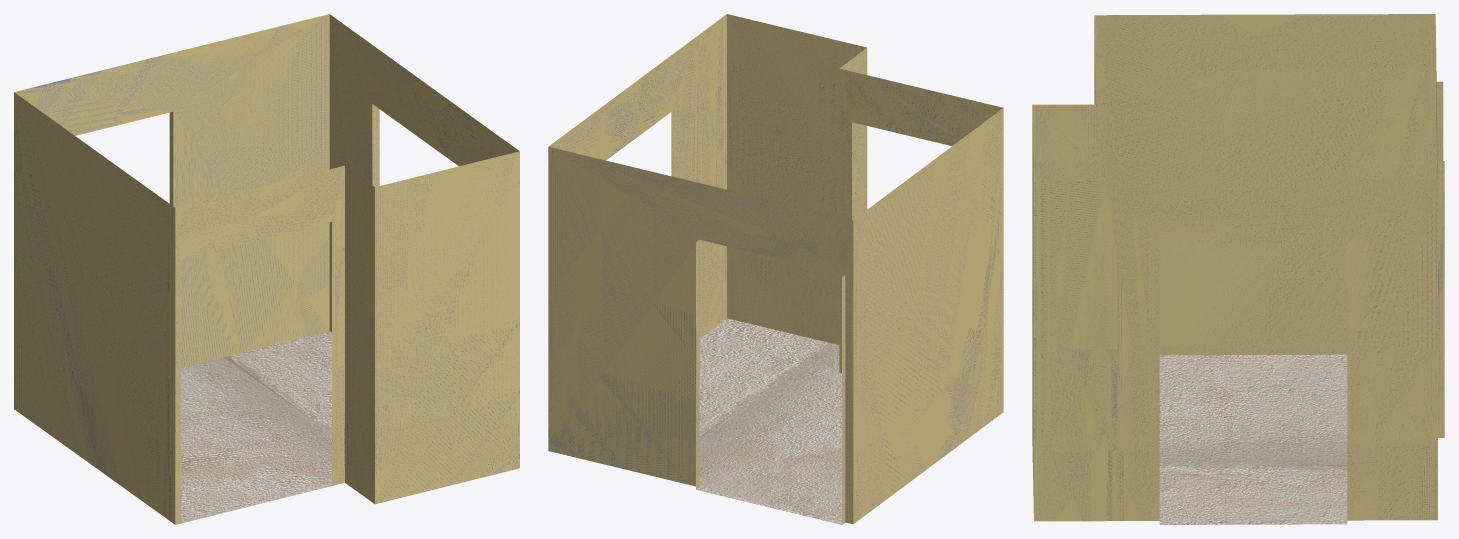
File: COM017.obj
The picture shows the model from 3 angles, left to right: view 1: azimuth 30°, elevation 25°; view 2: azimuth 150°, elevation 25°; view 3: azimuth 270°, elevation 25°; orthographic projection. The views are drawn at different scales.
Parts seen in each view (by area): view 1: Mesh1 COM017 Model; view 2: Mesh1 COM017 Model; view 3: Mesh1 COM017 Model.
Boxes of the visible parts, x1,y1,x2,y2 form: Mesh1 COM017 Model: (14, 14, 519, 524); Mesh1 COM017 Model: (548, 14, 1003, 524); Mesh1 COM017 Model: (1032, 14, 1444, 524).
Bounding box in the file's own units: 3.87 × 3.6 × 3.95.
4 materials, 2 textured.
